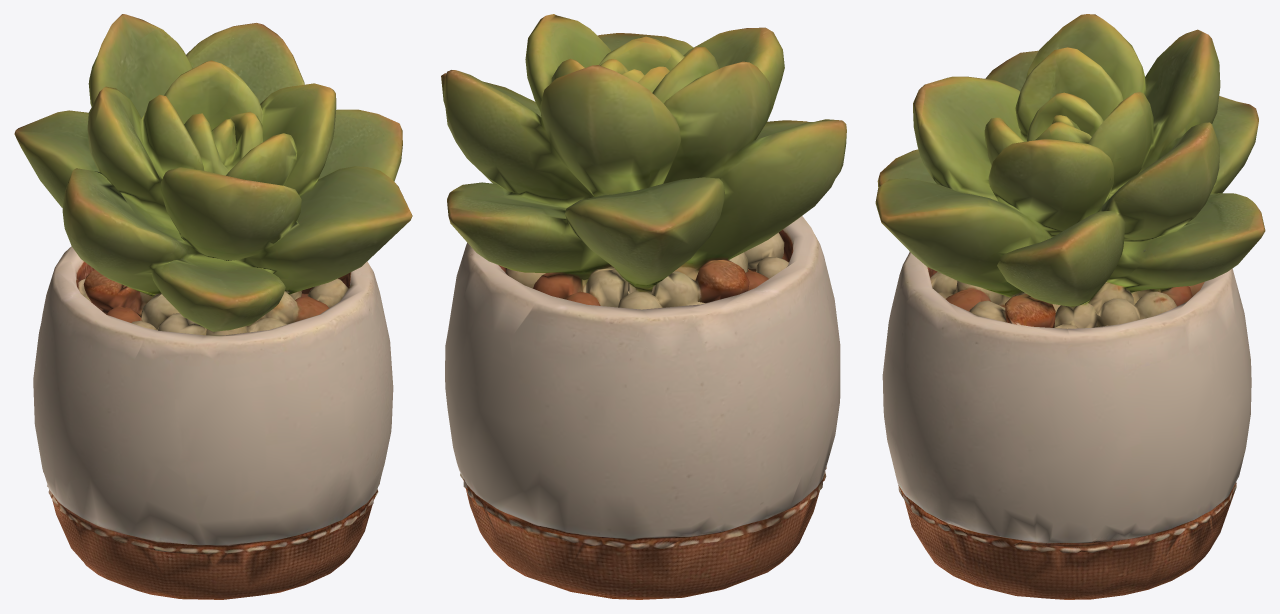
Rendered from plant-small.high.glb.
3 renders of one model, left to right at view 1: azimuth 30°, elevation 25°; view 2: azimuth 150°, elevation 25°; view 3: azimuth 270°, elevation 25°, orthographic. The views are drawn at different scales.
Visible parts, largest first — view 1: tripo_node_fb990ad3-6fc1-434f-bfc6-6bcf948b6287; view 2: tripo_node_fb990ad3-6fc1-434f-bfc6-6bcf948b6287; view 3: tripo_node_fb990ad3-6fc1-434f-bfc6-6bcf948b6287.
Boxes of the visible parts, x1,y1,x2,y2 form: tripo_node_fb990ad3-6fc1-434f-bfc6-6bcf948b6287: (14, 14, 412, 599); tripo_node_fb990ad3-6fc1-434f-bfc6-6bcf948b6287: (441, 14, 846, 599); tripo_node_fb990ad3-6fc1-434f-bfc6-6bcf948b6287: (875, 14, 1265, 599).
Bounding box in the file's own units: 0.1497 × 0.1998 × 0.1416.
1 material, 1 textured.
